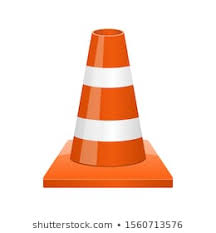cones: (44, 30, 175, 191)
